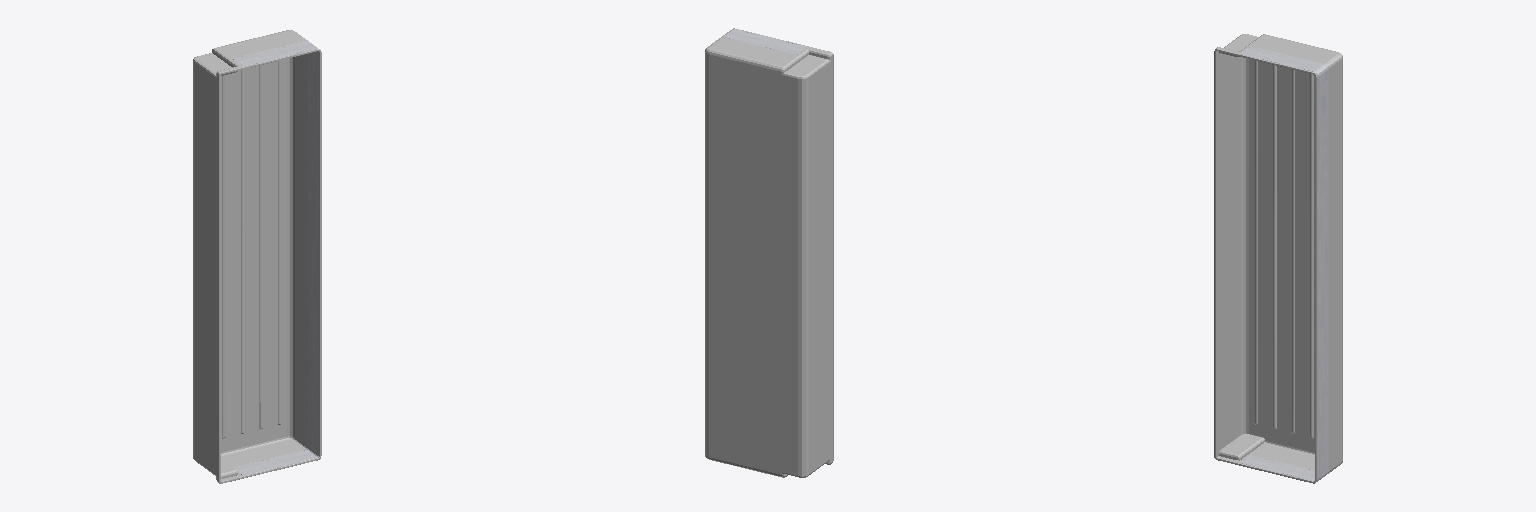
The picture shows the model from 3 angles: view 1: azimuth 30°, elevation 25°; view 2: azimuth 150°, elevation 25°; view 3: azimuth 330°, elevation 25°; orthographic projection.
Visible parts, largest first — view 1: SM_Fridge_Door_Tray_02; view 2: SM_Fridge_Door_Tray_02; view 3: SM_Fridge_Door_Tray_02.
Boxes of the visible parts, box(x1,y1,x2,y2) form: SM_Fridge_Door_Tray_02: box(193, 30, 321, 483); SM_Fridge_Door_Tray_02: box(705, 28, 833, 477); SM_Fridge_Door_Tray_02: box(1214, 34, 1342, 483).
Size of the model in its own units: 0.11 by 0.422 by 0.0538.
Materials: 2 (1 with a texture image).